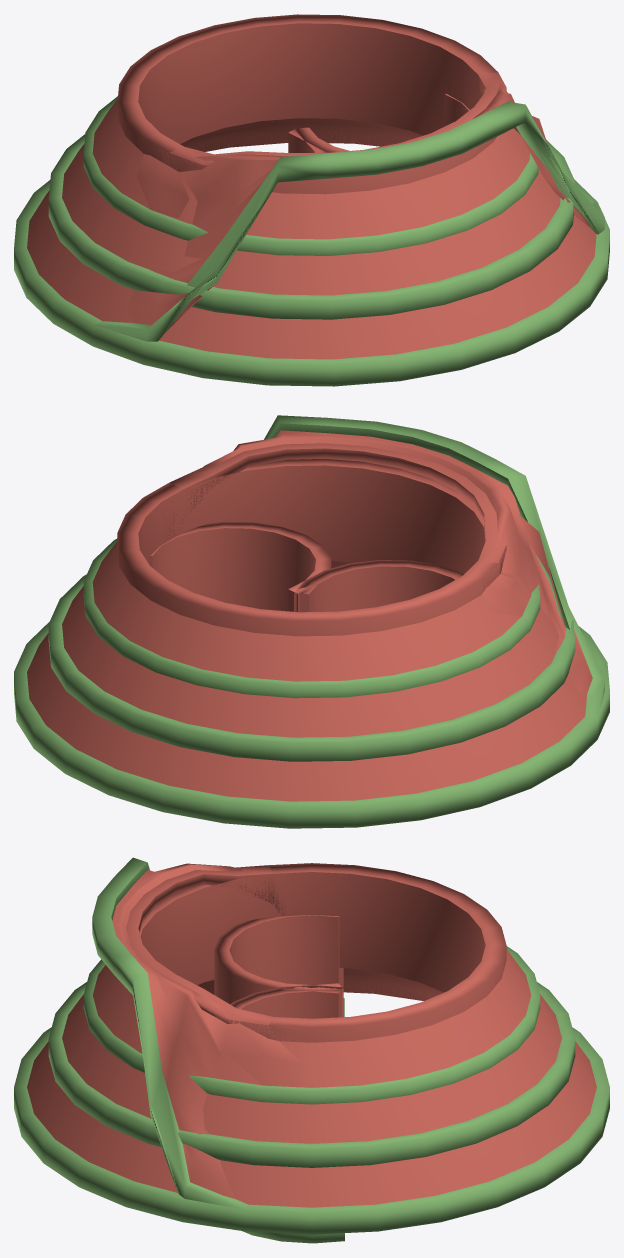
File: colorful_skirt.glb
3 renders of one model, top to bottom at view 1: azimuth 30°, elevation 25°; view 2: azimuth 150°, elevation 25°; view 3: azimuth 270°, elevation 25°, orthographic.
Parts seen in each view (by area): view 1: colorful_skirt_Body, colorful_skirt_Body_sit, colorful_skirt_LegR_sit; view 2: colorful_skirt_Body, colorful_skirt_Body_sit, colorful_skirt_LegR_sit, colorful_skirt_LegL_sit; view 3: colorful_skirt_Body, colorful_skirt_Body_sit, colorful_skirt_LegL_sit, colorful_skirt_LegR_sit.
Boxes of the visible parts, x1,y1,x2,y2 form: colorful_skirt_Body: [14, 14, 609, 386]; colorful_skirt_Body_sit: [93, 48, 604, 341]; colorful_skirt_LegR_sit: [294, 93, 469, 152]; colorful_skirt_Body: [14, 458, 609, 828]; colorful_skirt_Body_sit: [145, 415, 604, 718]; colorful_skirt_LegR_sit: [150, 521, 331, 612]; colorful_skirt_LegL_sit: [294, 560, 463, 612]; colorful_skirt_Body: [14, 863, 609, 1234]; colorful_skirt_Body_sit: [92, 857, 443, 1209]; colorful_skirt_LegL_sit: [214, 915, 344, 1017]; colorful_skirt_LegR_sit: [230, 985, 344, 1243].
Size of the model in its own units: 0.628 by 0.2847 by 0.628.
